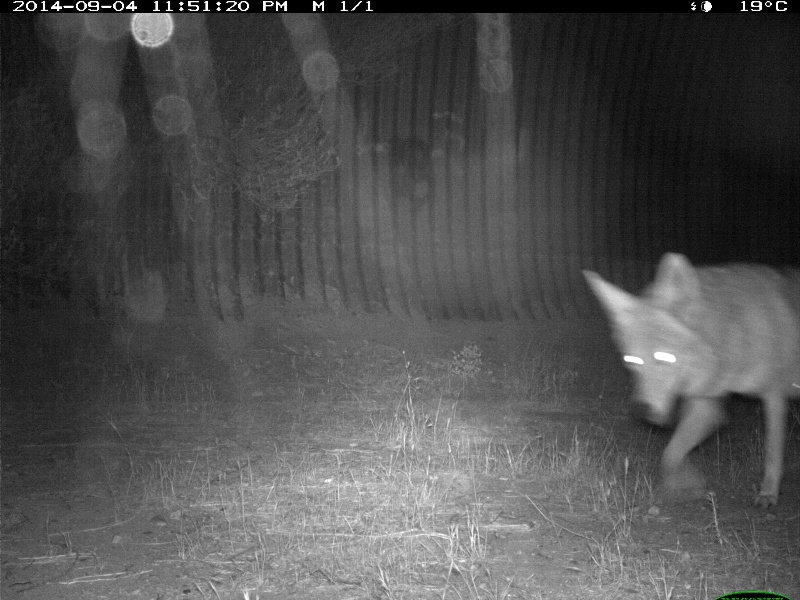coyote: (572, 244, 800, 509)
